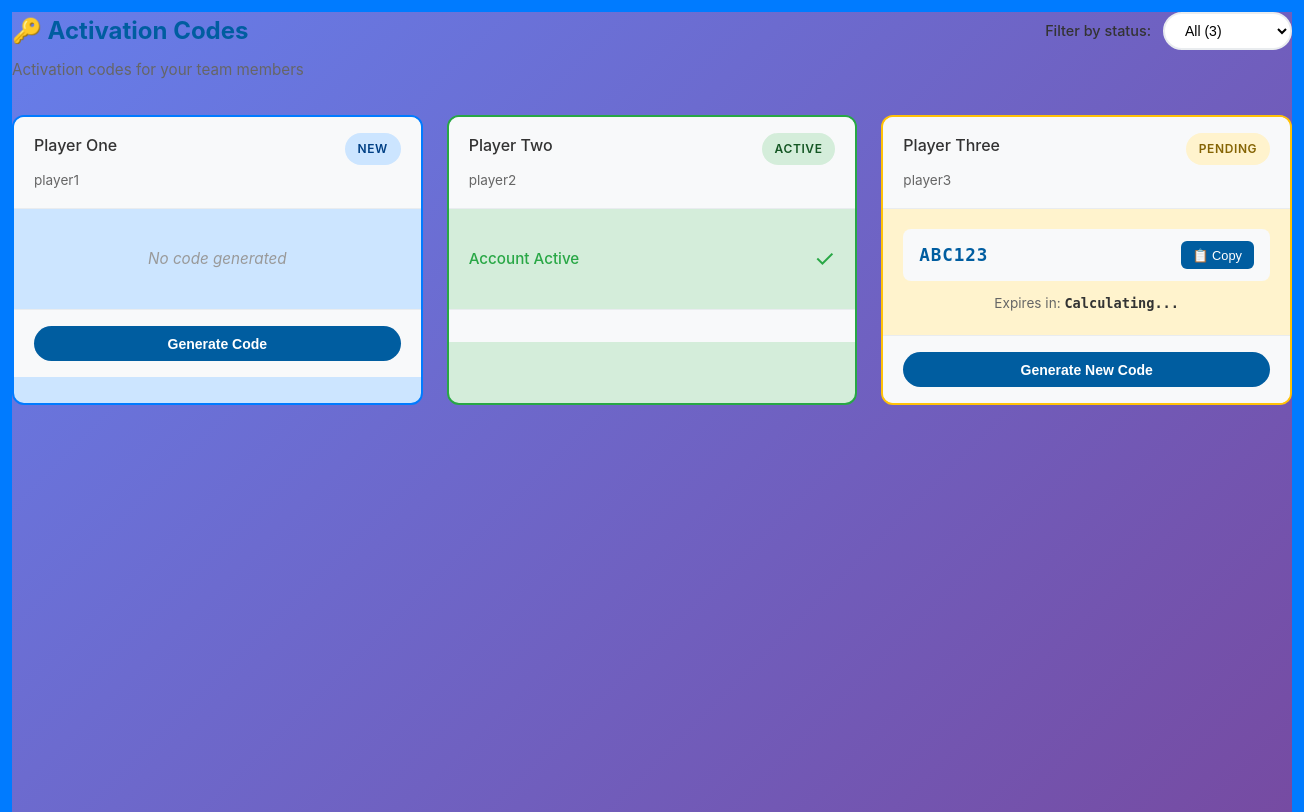
Test: ActivationCodesTab Component › Status Filtering › should filter members by NEW status
The image size is (1304, 812).
Check: the text "Player One" is shown, box [34,135,117,155]
Select "New (1)" in the dropdown labelled "Filter by status:": (1228, 31) [1163,12,1292,50]
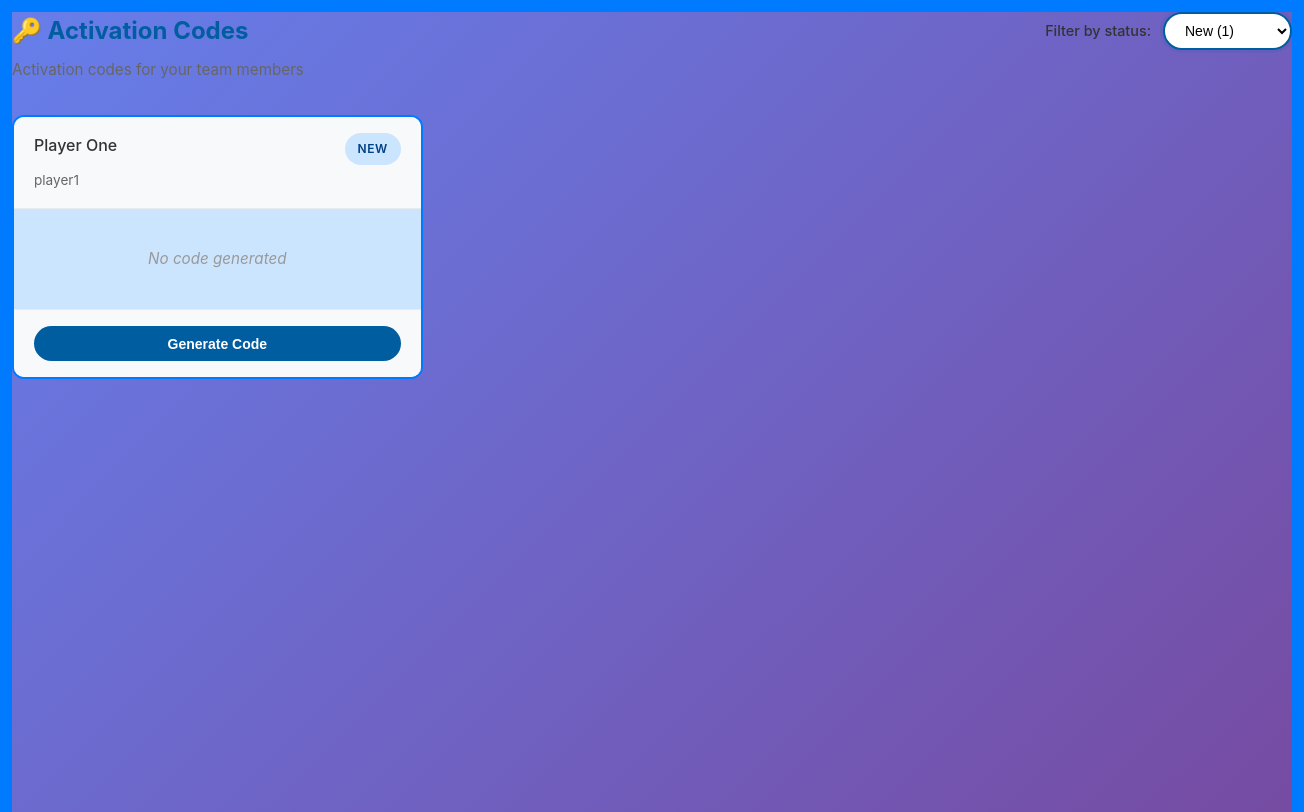
Check: the text "Player One" is shown, box [34,135,117,155]
Check: the text "Player Two" is gone
Check: the text "Player Three" is gone
